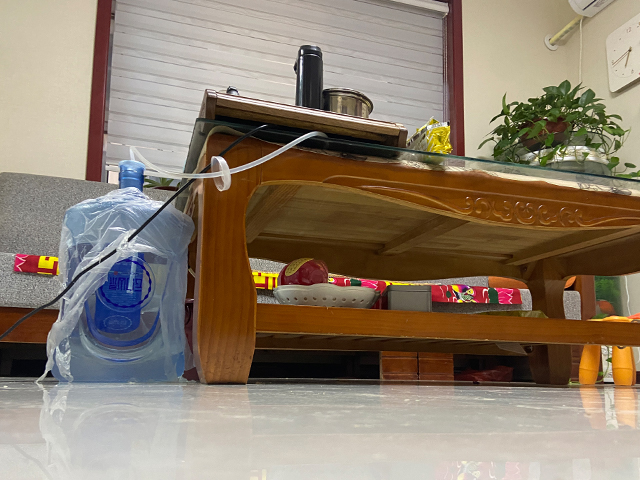sofa: (1, 170, 180, 378)
table: (175, 116, 640, 387)
wire: (1, 121, 270, 342)
